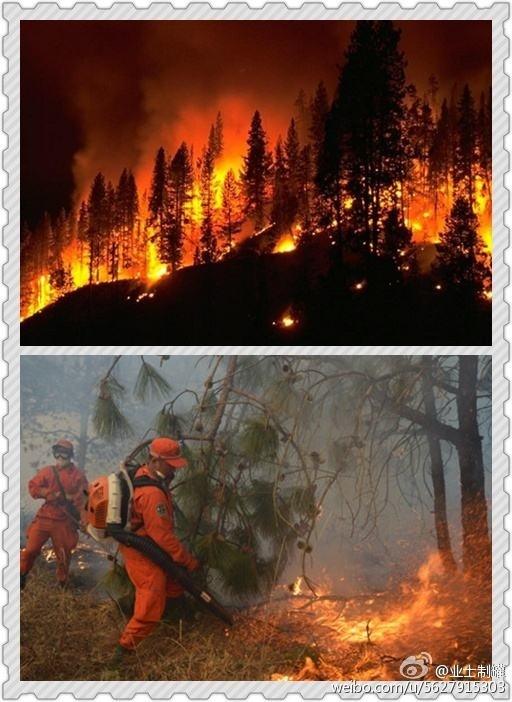fire: (50, 123, 490, 310), (259, 546, 478, 678)
